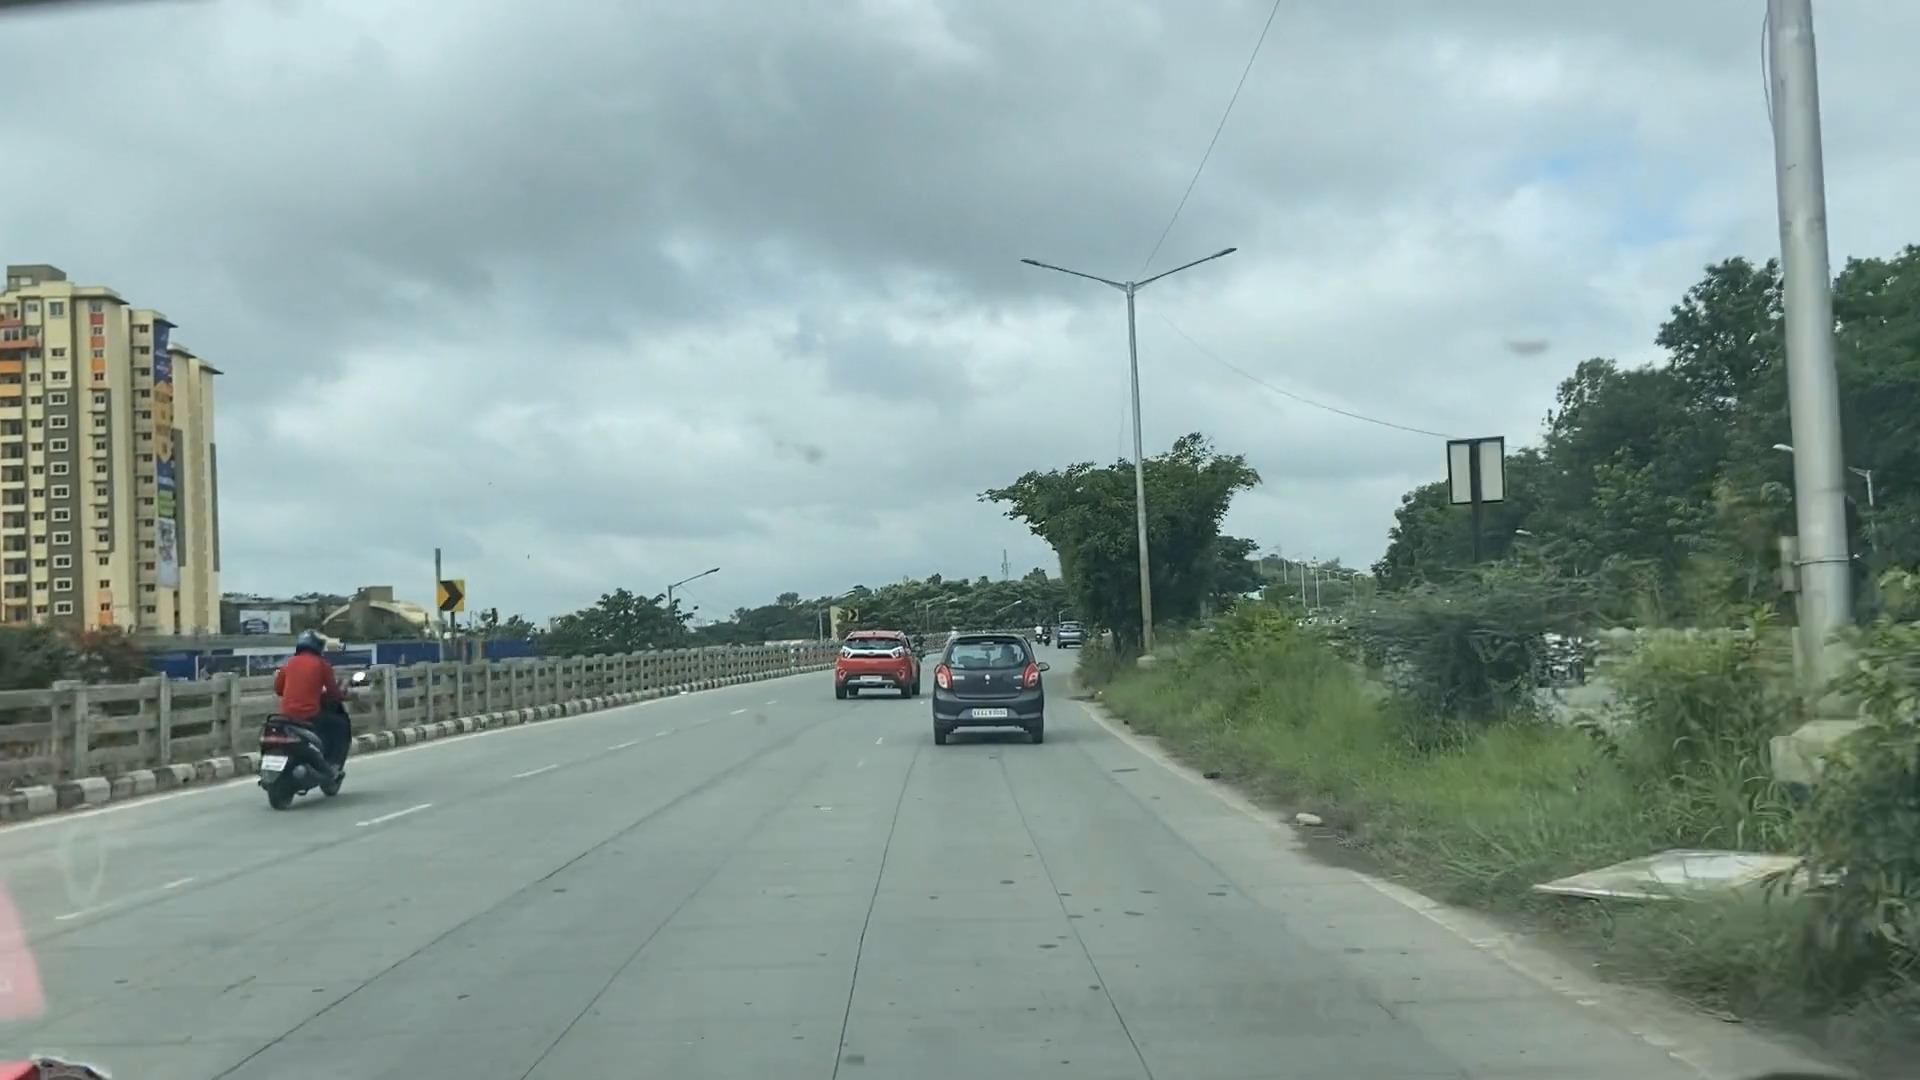LMV: (264, 634, 343, 787), (938, 644, 1038, 737), (840, 630, 899, 694)
